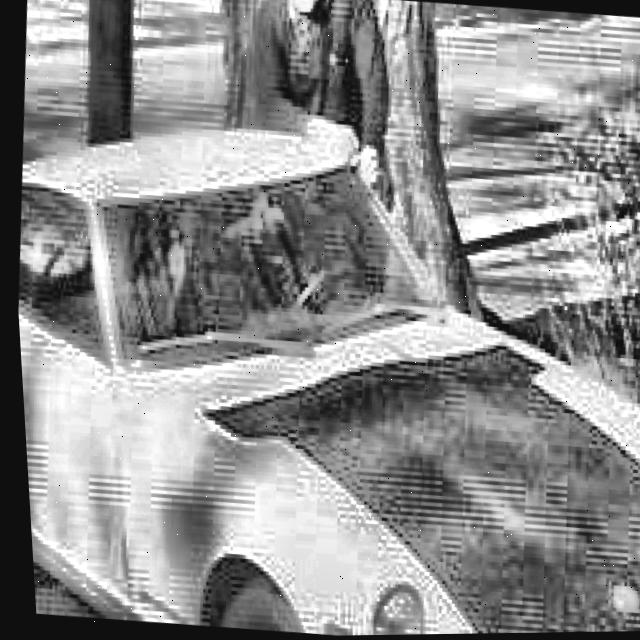light_vehicle: (5, 94, 640, 640)
